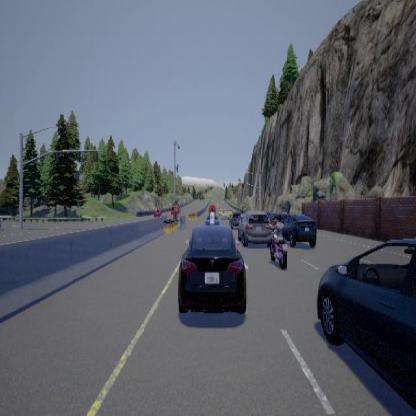motobike: (266, 212, 288, 268)
vehicle: (316, 236, 415, 410), (177, 223, 244, 313), (280, 208, 318, 252), (239, 208, 271, 249), (205, 212, 220, 226)
